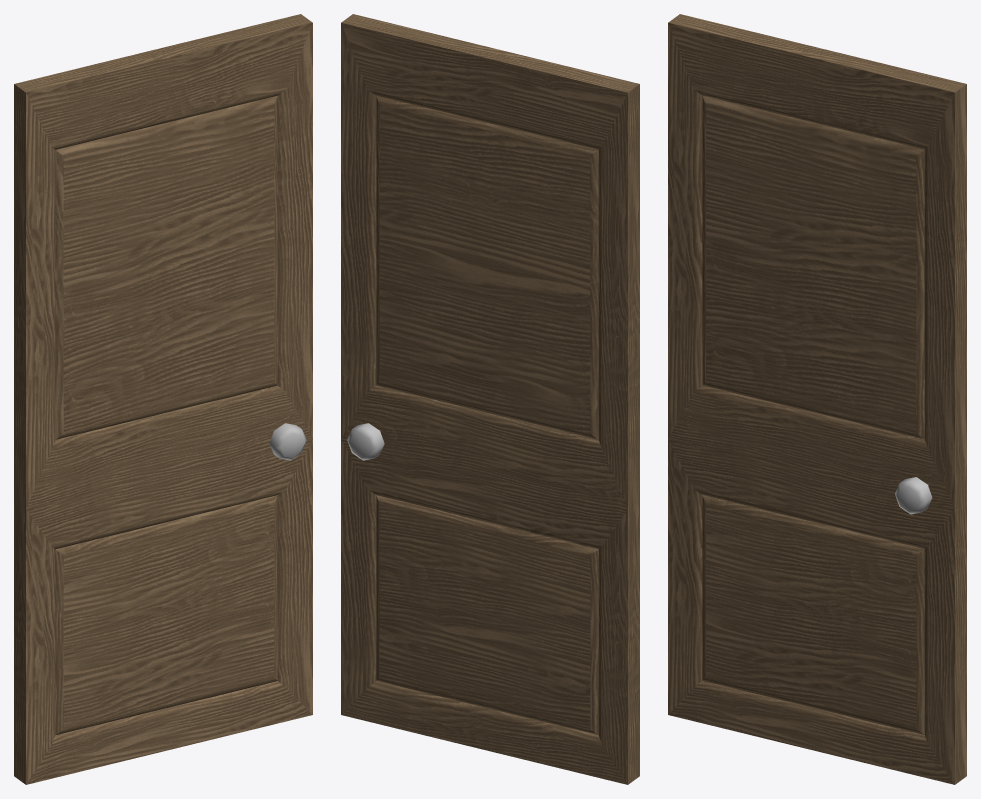
The model's file is door_018.fbx.
3 renders of one model, left to right at view 1: azimuth 30°, elevation 25°; view 2: azimuth 150°, elevation 25°; view 3: azimuth 330°, elevation 25°, orthographic.
Visible parts, largest first — view 1: door_018; view 2: door_018; view 3: door_018.
Part boxes in pixels (bbox=[...]): door_018: bbox=[14, 14, 312, 784]; door_018: bbox=[341, 14, 639, 784]; door_018: bbox=[668, 14, 966, 784].
Size of the model in its own units: 95.15 by 23.13 by 219.
